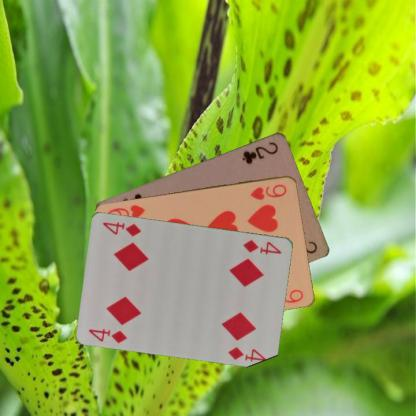2c: (239, 139, 280, 165)
4d: (241, 236, 283, 256), (86, 326, 129, 344)
9h: (248, 181, 288, 201)
